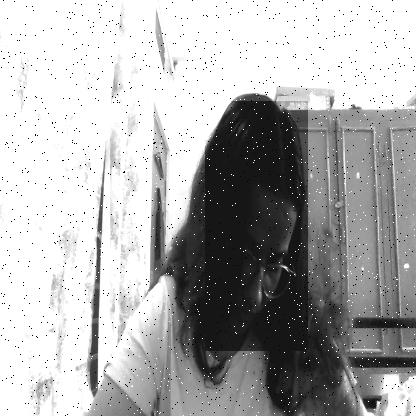Distracted: (205, 101, 308, 351)
